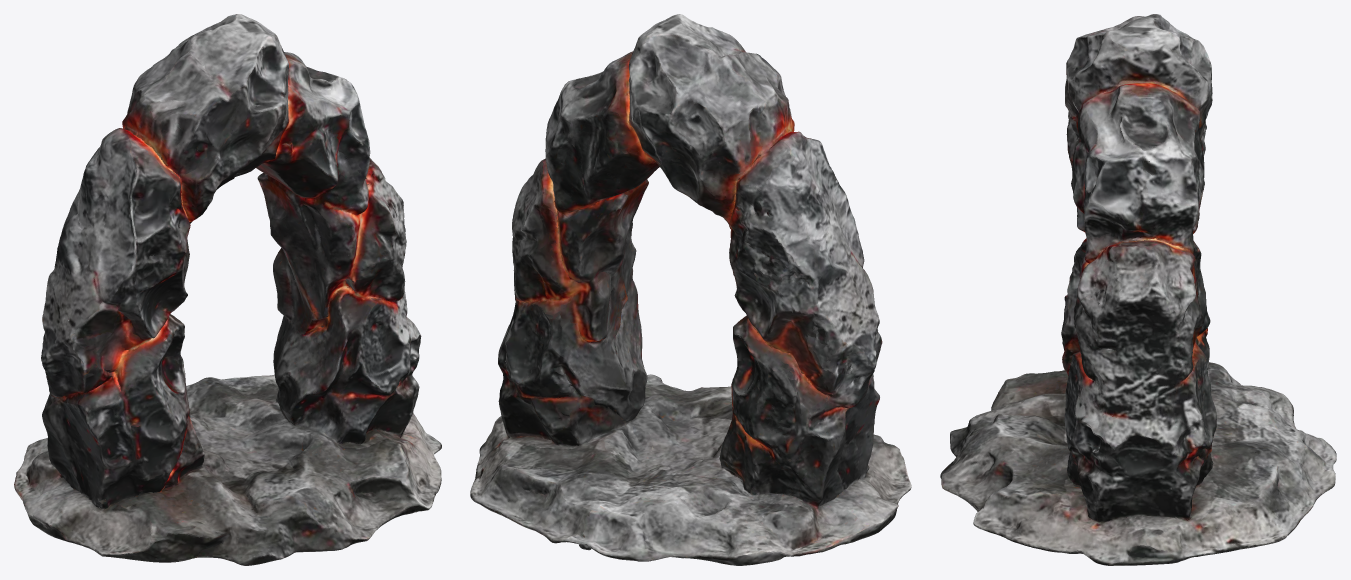
Rendered from obsidian-arch.glb.
The picture shows the model from 3 angles, left to right: view 1: azimuth 30°, elevation 25°; view 2: azimuth 150°, elevation 25°; view 3: azimuth 270°, elevation 25°; orthographic projection.
Visible parts, largest first — view 1: geometry_0; view 2: geometry_0; view 3: geometry_0.
Boxes of the visible parts, box(x1,y1,x2,y2) form: geometry_0: box(14, 14, 441, 565); geometry_0: box(470, 14, 911, 565); geometry_0: box(940, 14, 1336, 565).
Size of the model in its own units: 0.4998 by 0.55 by 0.438.
1 material, 1 textured.
